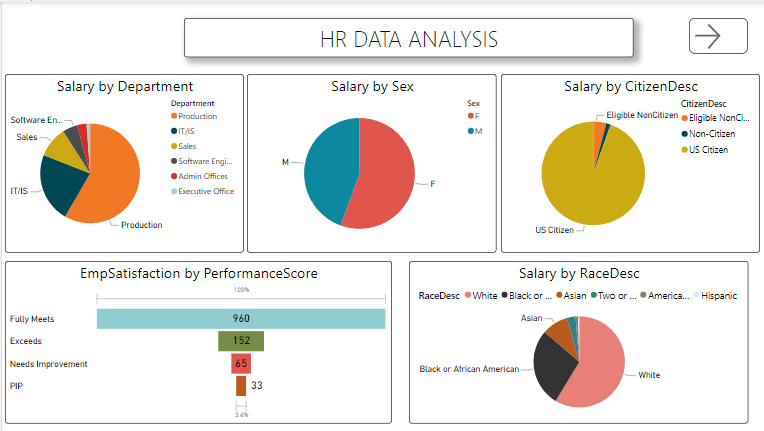

What the dashboard file says about the page in this screenshot:
{"tool":"powerbi","page":{"name":"Page 1","canvas":[1280,720],"ordinal":0},"visuals":[{"type":"textbox","box":[305.4,26.6,754.5,65.7],"z":0},{"type":"pieChart","fields":{"Category":["HRDataset.Department"],"Y":["Sum(HRDataset.Salary)"]},"box":[5.3,120.7,401.2,300],"z":1000},{"type":"pieChart","fields":{"Y":["Sum(HRDataset.Salary)"],"Category":["HRDataset.Sex"]},"box":[411.9,120.7,419,300],"z":2000},{"type":"pieChart","fields":{"Y":["Sum(HRDataset.Salary)"],"Series":["HRDataset.CitizenDesc"]},"box":[837.9,120.7,435,300],"z":3000},{"type":"funnel","fields":{"Category":["HRDataset.PerformanceScore"],"Y":["Sum(HRDataset.EmpSatisfaction)"]},"box":[5.3,435,649.8,273.4],"z":4000},{"type":"pieChart","fields":{"Y":["Sum(HRDataset.Salary)"],"Category":["HRDataset.RaceDesc"]},"box":[683.5,435,569.9,273.4],"z":5000},{"type":"actionButton","box":[1154,26.6,99.4,60.4],"z":6000}]}

Visuals, with their boxes in screenshot pixels (x1, y1, x2, y2), scaled from the page's 1280x720 canvas onto the 764x431 screenshot:
textbox: <box>182,16,633,55</box>
pieChart - HRDataset.Department x Sum(HRDataset.Salary): <box>3,72,243,252</box>
pieChart - Sum(HRDataset.Salary) x HRDataset.Sex: <box>246,72,496,252</box>
pieChart - Sum(HRDataset.Salary) x HRDataset.CitizenDesc: <box>500,72,760,252</box>
funnel - HRDataset.PerformanceScore x Sum(HRDataset.EmpSatisfaction): <box>3,260,391,424</box>
pieChart - Sum(HRDataset.Salary) x HRDataset.RaceDesc: <box>408,260,748,424</box>
actionButton: <box>689,16,748,52</box>
